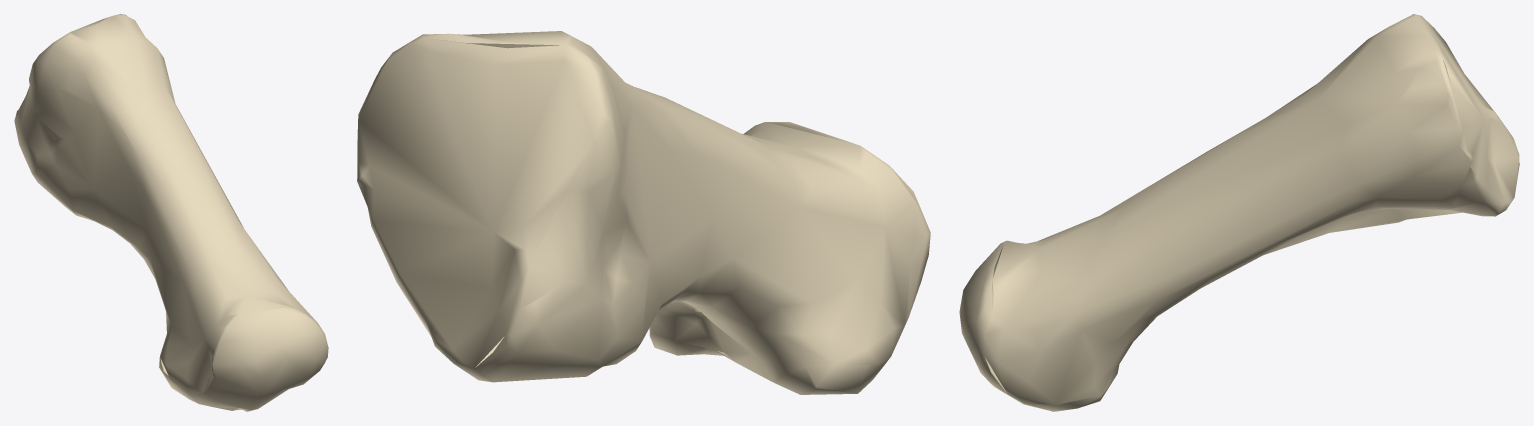
The model's file is esqueleto-first-metatarsal-bone-r.glb.
3 renders of one model, left to right at view 1: azimuth 30°, elevation 25°; view 2: azimuth 150°, elevation 25°; view 3: azimuth 270°, elevation 25°, orthographic. The views are drawn at different scales.
Parts seen in each view (by area): view 1: First metatarsal bone.r; view 2: First metatarsal bone.r; view 3: First metatarsal bone.r.
Part boxes in pixels (<box>): First metatarsal bone.r: <box>14,14,328,411</box>; First metatarsal bone.r: <box>357,31,930,394</box>; First metatarsal bone.r: <box>959,14,1519,411</box>.
Bounding box in the file's own units: 0.0218 × 0.0449 × 0.0635.
